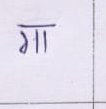aa_matra: (43, 31, 47, 52)
